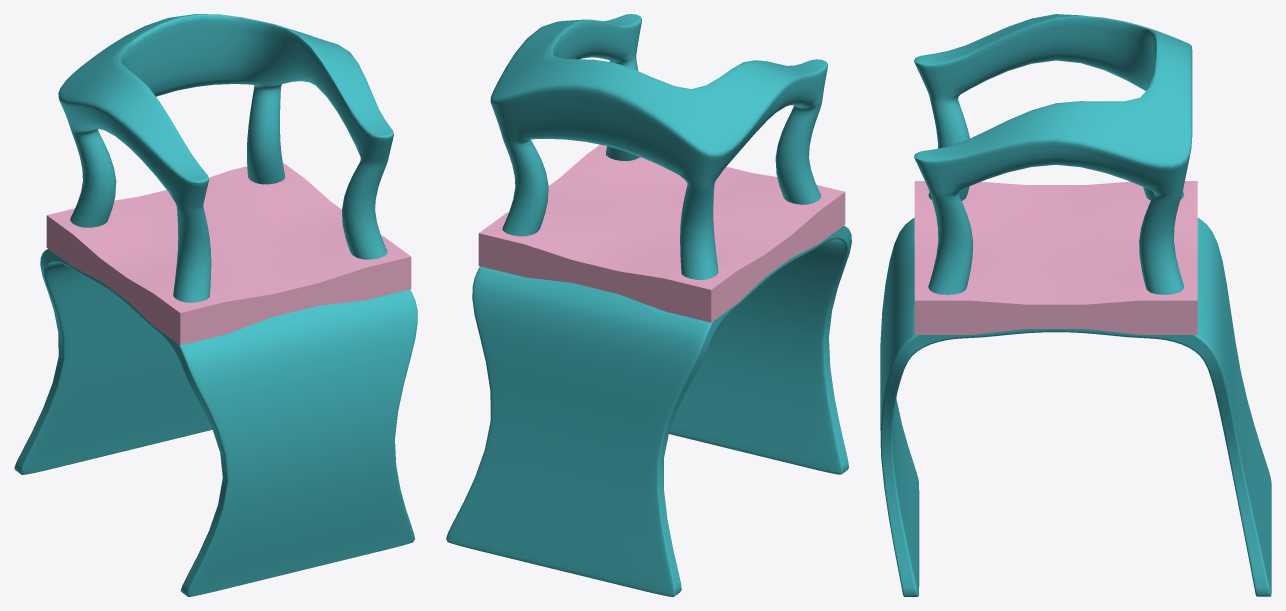
3 renders of one model, left to right at view 1: azimuth 30°, elevation 25°; view 2: azimuth 150°, elevation 25°; view 3: azimuth 270°, elevation 25°, orthographic. The views are drawn at different scales.
Visible parts, largest first — view 1: split_parent_1, Object_2; view 2: split_parent_1, Object_2; view 3: split_parent_1, Object_2.
Boxes of the visible parts, x1,y1,x2,y2 form: split_parent_1: [14, 14, 417, 596]; Object_2: [46, 162, 411, 345]; split_parent_1: [446, 14, 851, 596]; Object_2: [478, 144, 845, 322]; split_parent_1: [880, 14, 1271, 596]; Object_2: [914, 181, 1197, 334].
Size of the model in its own units: 0.5531 by 1 by 0.7182.
